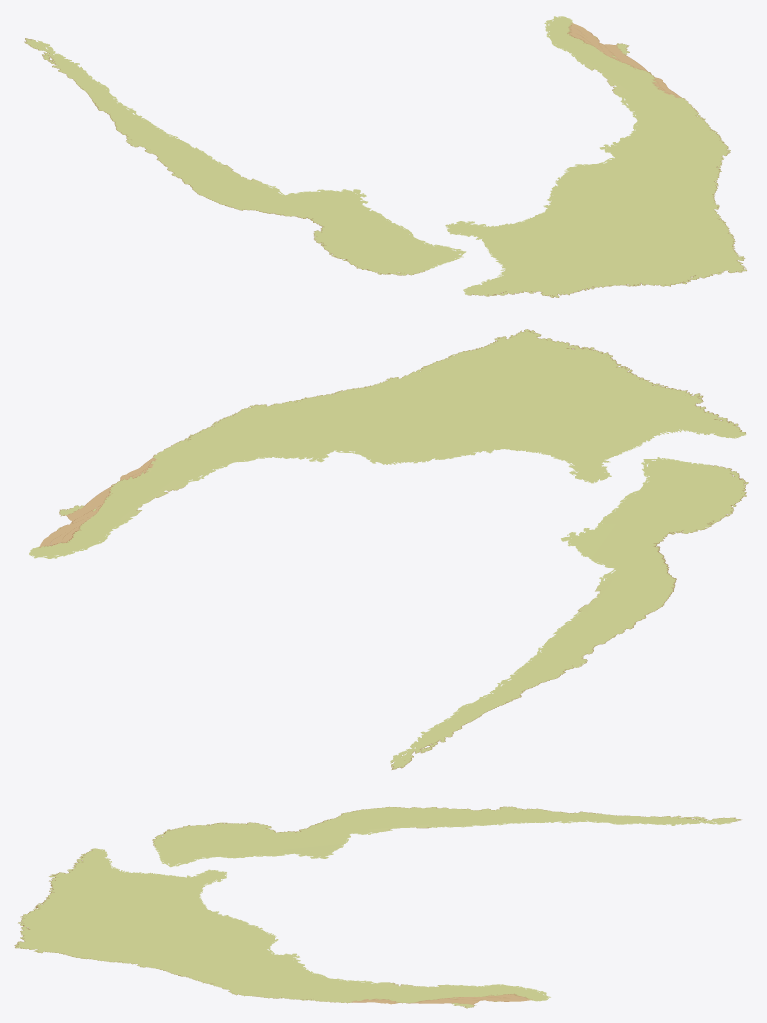
File: Mesh_Home_BH_Grass_01.fbx
3 views of the same model, one above another, from view 1: azimuth 30°, elevation 25°; view 2: azimuth 150°, elevation 25°; view 3: azimuth 270°, elevation 25° (orthographic). The views are drawn at different scales.
Parts seen in each view (by area): view 1: Mesh_Home_BH_Grass_01; view 2: Mesh_Home_BH_Grass_01; view 3: Mesh_Home_BH_Grass_01.
Part boxes in pixels (x1,y1,x2,y2): Mesh_Home_BH_Grass_01: (24,16,746,297); Mesh_Home_BH_Grass_01: (29,329,748,769); Mesh_Home_BH_Grass_01: (14,806,741,1008).
Size of the model in its own units: 3204 by 6.51 by 4912.
1 material, 1 textured.
